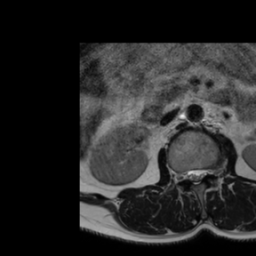CCS_normal: (193, 163, 199, 189)
LFS_normal: (206, 163, 213, 179)
LLS_normal: (200, 162, 206, 185)
RFS_normal: (180, 164, 187, 186)
RLS_normal: (186, 164, 193, 184)
